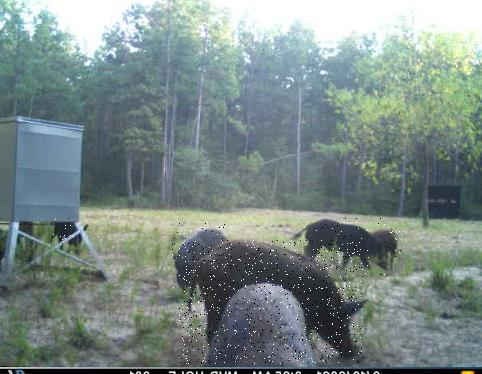Hog: (179, 240, 363, 364), (205, 278, 317, 363), (299, 218, 385, 275), (170, 222, 227, 288), (367, 227, 402, 264), (49, 218, 83, 248)
